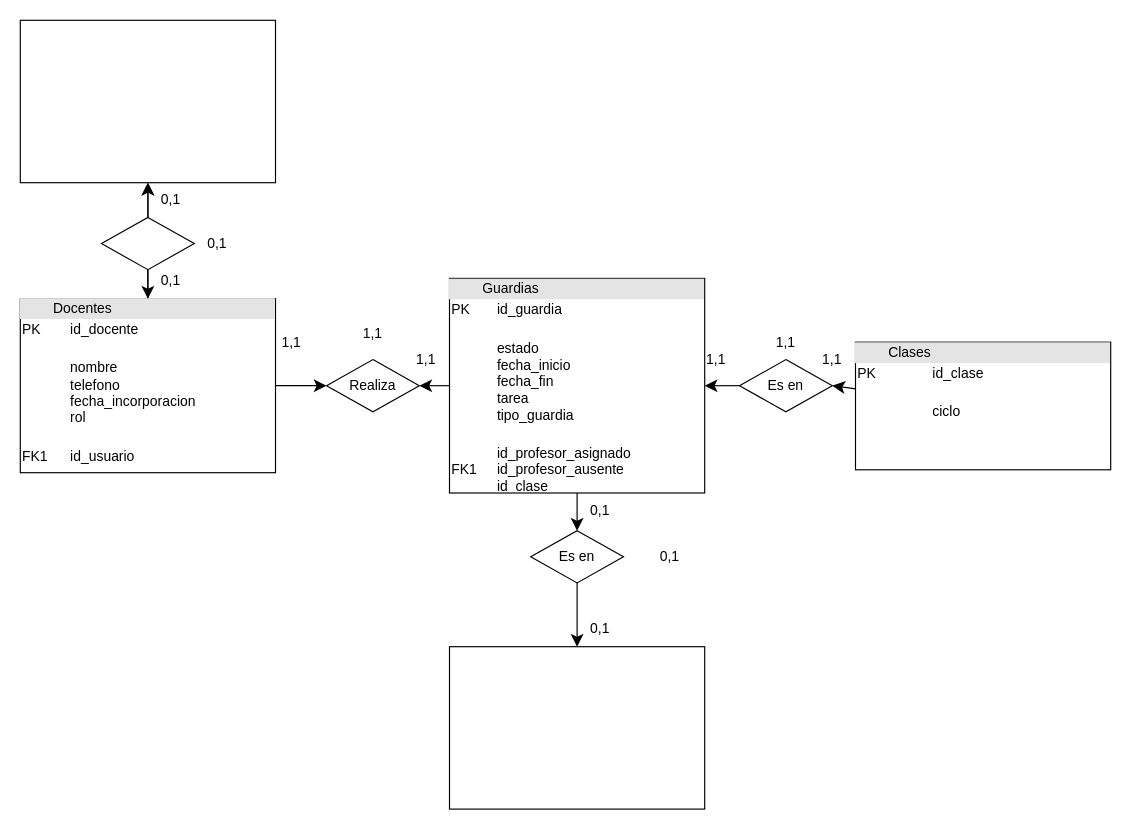
This 1131x829 diagram has some shape labels left out. The shapes that lost their labels are listed below. From the top down, each one's centre as x and y in pixels, then its label:
At pixel 147 101: "Usuarios PK id_usuario email hash_contraseña estado creado_en".
At pixel 147 243: "Es".
At pixel 576 727: "Ausencias PK id_ausencia fecha_inicio fecha_fin motivo FK1 id_docente".
